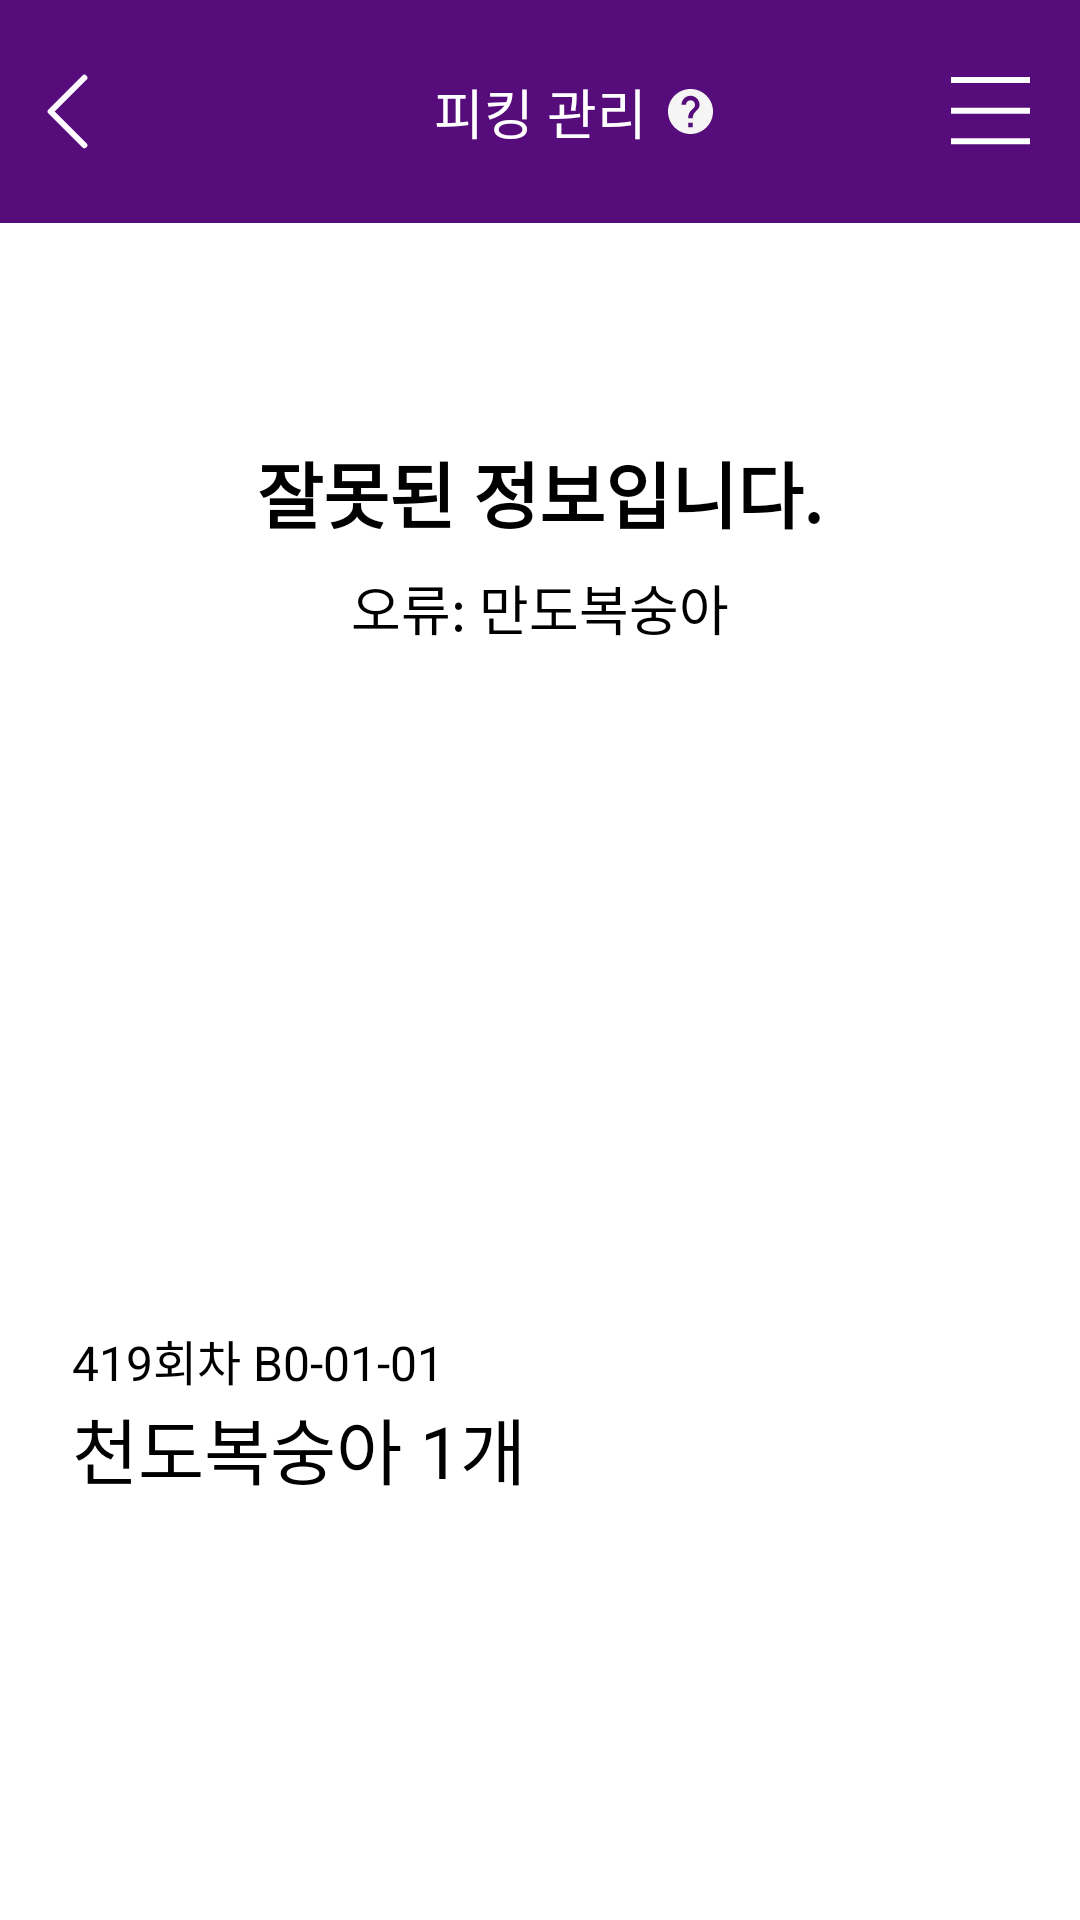

Named icons in this screenshot (1080 x 1920) and their bounding boxes, (x1,y1,x2,y2):
back: (47,74,88,149)
menu: (951,77,1030,145)
question: (668,89,713,134)
